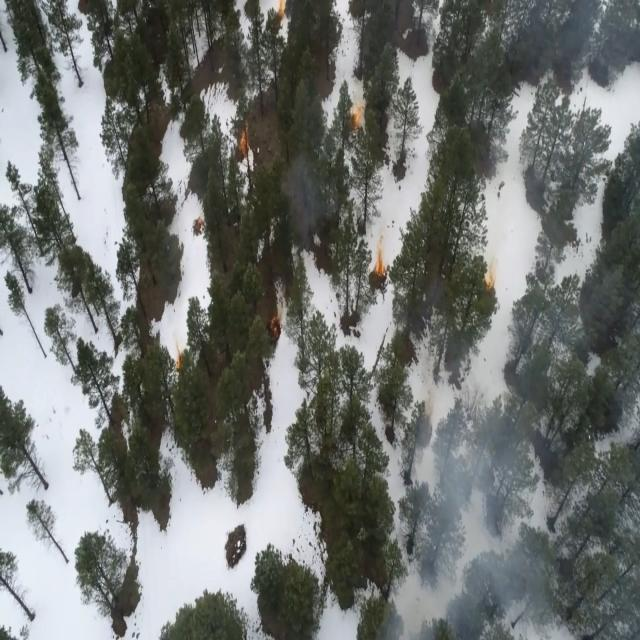Fire: (370, 234, 393, 277), (233, 120, 256, 160), (347, 96, 369, 135), (172, 331, 190, 374), (268, 301, 288, 339), (480, 260, 503, 288), (274, 0, 294, 27), (192, 210, 207, 236)
Smoke: (390, 391, 568, 640), (270, 155, 342, 242)
